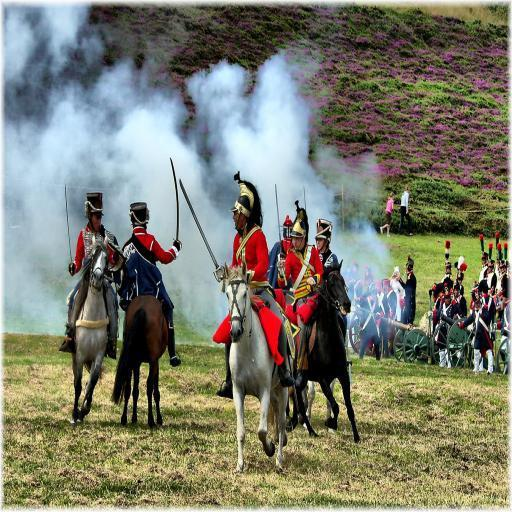horse: (224, 260, 292, 472), (285, 260, 361, 446), (68, 232, 110, 426), (110, 294, 168, 432)
